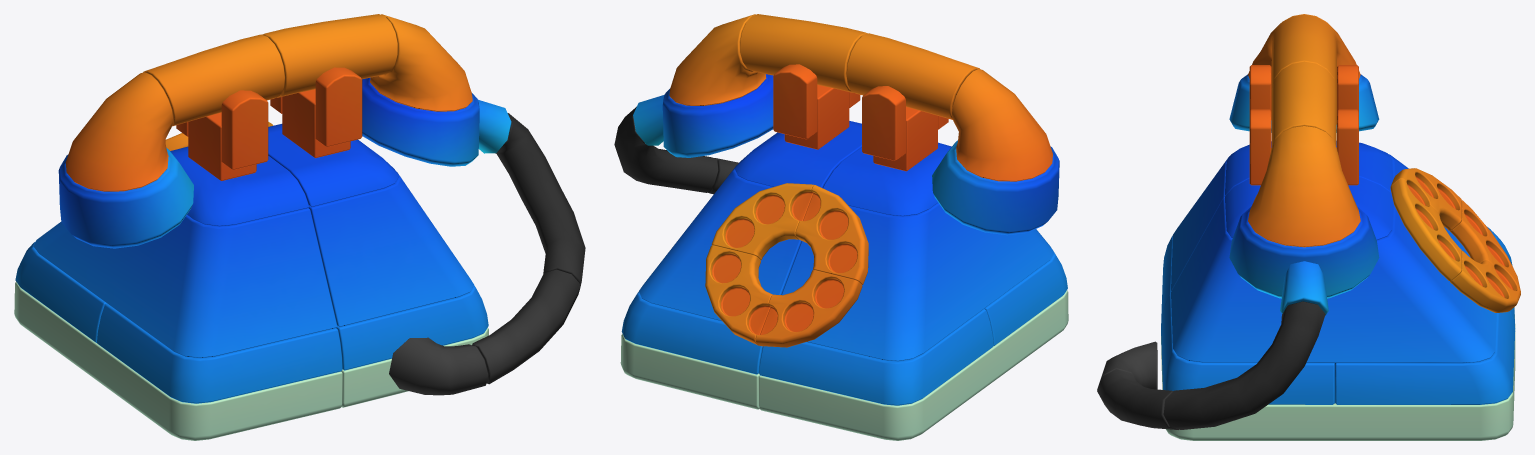
File: Level_P_37.fbx
The picture shows the model from 3 angles, left to right: view 1: azimuth 30°, elevation 25°; view 2: azimuth 150°, elevation 25°; view 3: azimuth 270°, elevation 25°; orthographic projection. The views are drawn at different scales.
Visible parts, largest first — view 1: Dial_Phone_6, Dial_Phone_21, Dial_Phone_3, Dial_Phone_5, Dial_Phone_2, Dial_Phone_27, Dial_Phone_1, Dial_Phone_7, Dial_Phone_20, Dial_Phone_29, Dial_Phone_22, Dial_Phone_11 (+10 smaller); view 2: Dial_Phone_6, Dial_Phone_3, Dial_Phone_4, Dial_Phone_2, Dial_Phone_21, Dial_Phone_27, Dial_Phone_1, Dial_Phone_7, Dial_Phone_20, Dial_Phone_23, Dial_Phone_11, Dial_Phone_26 (+12 smaller); view 3: Dial_Phone_21, Dial_Phone_24, Dial_Phone_26, Dial_Phone_23, Dial_Phone_27, Dial_Phone_29, Dial_Phone_22, Dial_Phone_20, Dial_Phone_7, Dial_Phone_14, Dial_Phone_28, Dial_Phone_6 (+13 smaller).
Part boxes in pixels (x1=…): Dial_Phone_6: x1=33, y1=208, x2=337, y2=358; Dial_Phone_21: x1=308, y1=171, x2=473, y2=326; Dial_Phone_3: x1=14, y1=281, x2=342, y2=440; Dial_Phone_5: x1=97, y1=303, x2=342, y2=403; Dial_Phone_2: x1=65, y1=72, x2=172, y2=191; Dial_Phone_27: x1=362, y1=77, x2=511, y2=166; Dial_Phone_1: x1=58, y1=148, x2=193, y2=248; Dial_Phone_7: x1=143, y1=34, x2=285, y2=126; Dial_Phone_20: x1=262, y1=14, x2=397, y2=97; Dial_Phone_29: x1=495, y1=113, x2=585, y2=289; Dial_Phone_22: x1=336, y1=285, x2=488, y2=370; Dial_Phone_11: x1=170, y1=146, x2=308, y2=226; Dial_Phone_6: x1=781, y1=202, x2=1054, y2=361; Dial_Phone_3: x1=758, y1=290, x2=1068, y2=440; Dial_Phone_4: x1=759, y1=309, x2=993, y2=405; Dial_Phone_2: x1=952, y1=69, x2=1052, y2=181; Dial_Phone_21: x1=639, y1=164, x2=801, y2=321; Dial_Phone_27: x1=633, y1=74, x2=773, y2=157; Dial_Phone_1: x1=932, y1=140, x2=1059, y2=235; Dial_Phone_7: x1=846, y1=33, x2=979, y2=119; Dial_Phone_20: x1=739, y1=14, x2=867, y2=92; Dial_Phone_23: x1=621, y1=291, x2=762, y2=374; Dial_Phone_11: x1=823, y1=142, x2=951, y2=216; Dial_Phone_26: x1=669, y1=14, x2=766, y2=105; Dial_Phone_21: x1=1171, y1=198, x2=1496, y2=363; Dial_Phone_24: x1=1161, y1=334, x2=1515, y2=440; Dial_Phone_26: x1=1248, y1=126, x2=1360, y2=247; Dial_Phone_23: x1=1335, y1=311, x2=1515, y2=404; Dial_Phone_27: x1=1229, y1=206, x2=1379, y2=315; Dial_Phone_29: x1=1163, y1=301, x2=1325, y2=429; Dial_Phone_22: x1=1161, y1=295, x2=1334, y2=404; Dial_Phone_20: x1=1271, y1=62, x2=1336, y2=145; Dial_Phone_7: x1=1271, y1=14, x2=1336, y2=88; Dial_Phone_14: x1=1390, y1=179, x2=1461, y2=280; Dial_Phone_28: x1=1097, y1=369, x2=1178, y2=429; Dial_Phone_6: x1=1171, y1=154, x2=1495, y2=290.
Bounding box in the file's own units: 557 × 359 × 448.
